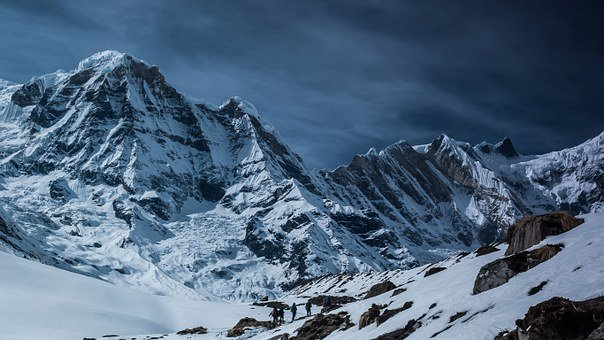mountain: (13, 70, 563, 340)
sky: (24, 3, 604, 124)
